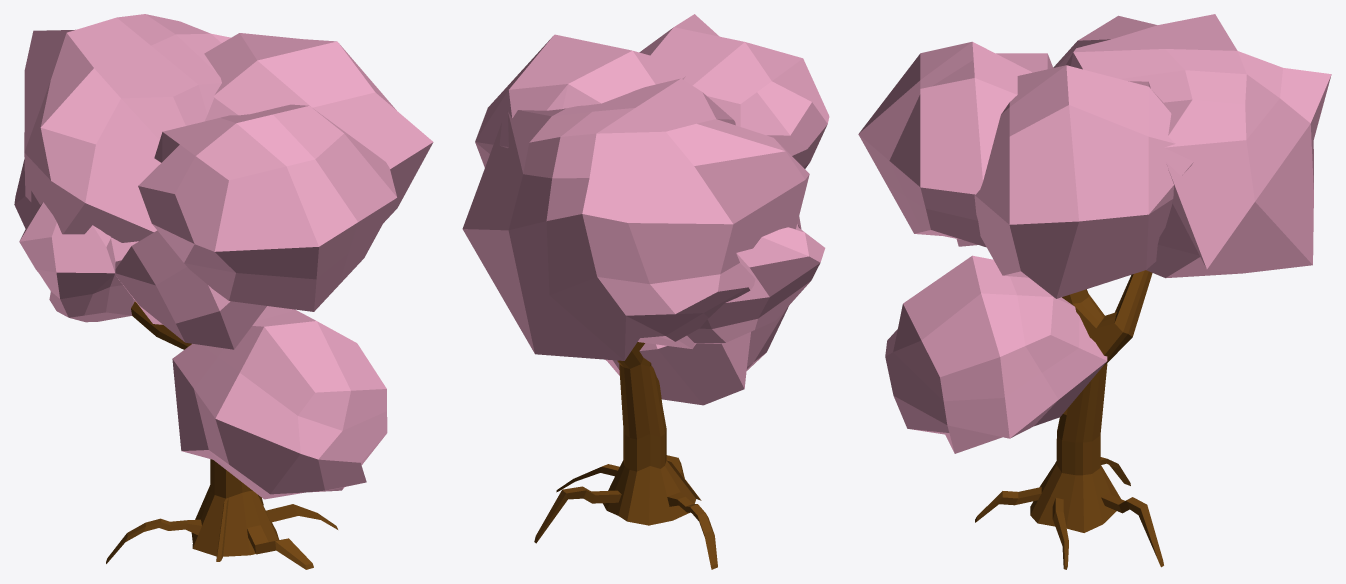
Rendered from сакура блять.fbx.
3 views of the same model, side by side, from view 1: azimuth 30°, elevation 25°; view 2: azimuth 150°, elevation 25°; view 3: azimuth 270°, elevation 25° (orthographic). The views are drawn at different scales.
Visible parts, largest first — view 1: Куб, Куб.003, Куб.005, Куб.002, Куб.001, Куб.004, Cube; view 2: Куб.003, Куб, Cube, Куб.002, Куб.004, Куб.005; view 3: Куб.003, Куб.002, Куб.005, Куб, Cube.
Part boxes in pixels (left/top/right/bottom): Куб: left=138, top=104, right=397, bottom=311; Куб.003: left=14, top=14, right=230, bottom=242; Куб.005: left=172, top=306, right=387, bottom=499; Куб.002: left=204, top=33, right=433, bottom=222; Куб.001: left=115, top=230, right=266, bottom=349; Куб.004: left=19, top=191, right=138, bottom=322; Cube: left=106, top=301, right=337, bottom=569; Куб.003: left=462, top=78, right=809, bottom=360; Куб: left=639, top=14, right=829, bottom=168; Cube: left=534, top=342, right=717, bottom=569; Куб.002: left=475, top=34, right=686, bottom=167; Куб.004: left=638, top=224, right=825, bottom=348; Куб.005: left=605, top=306, right=788, bottom=405; Куб.003: left=1053, top=14, right=1331, bottom=278; Куб.002: left=974, top=65, right=1193, bottom=298; Куб.005: left=885, top=255, right=1107, bottom=453; Куб: left=858, top=41, right=1052, bottom=247; Cube: left=975, top=270, right=1163, bottom=569.
Size of what is drawn, in the model's own units: 968 by 1281 by 1153.
